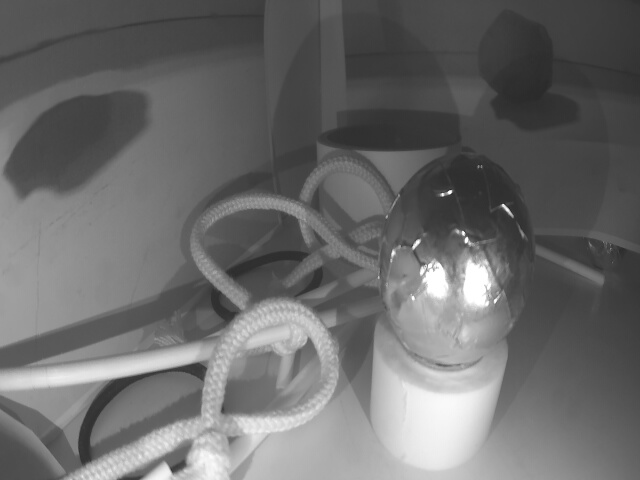Live: (379, 148, 523, 366)
